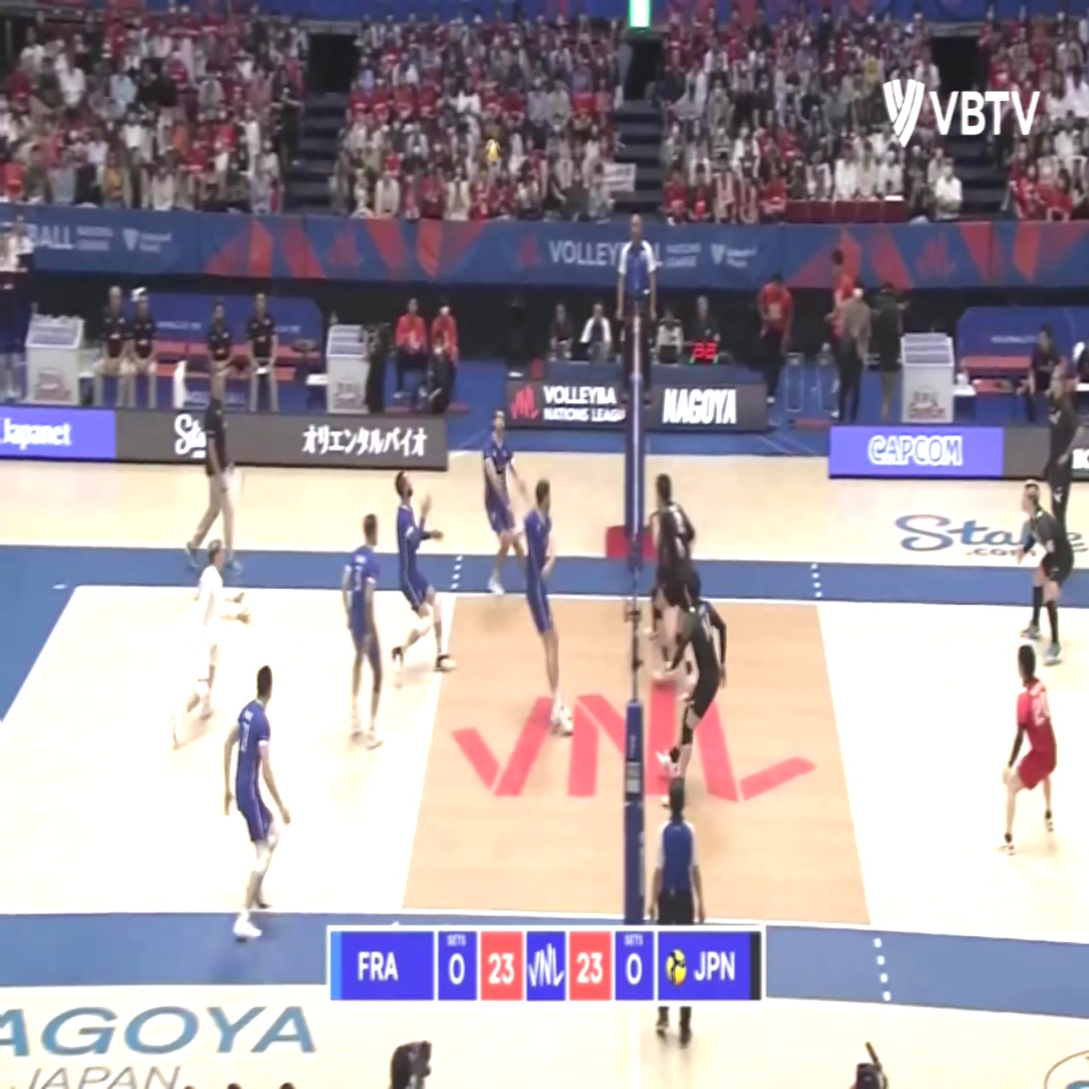ball: (483, 136, 498, 165)
